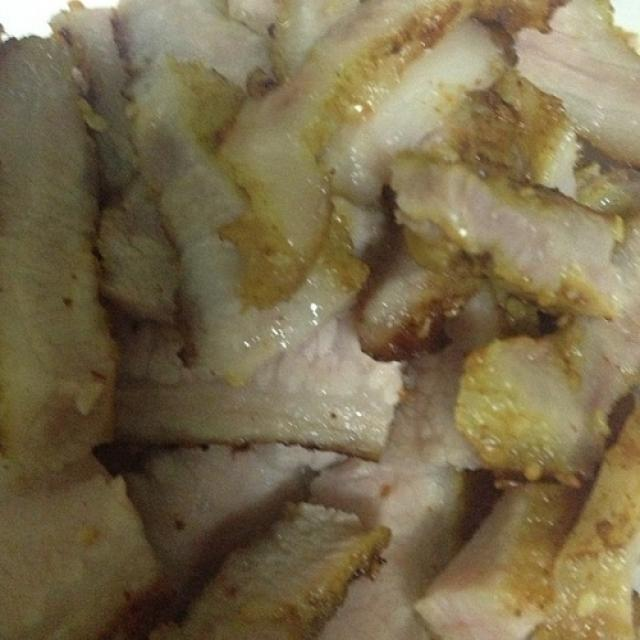猪肉菜式: (13, 21, 619, 618)
